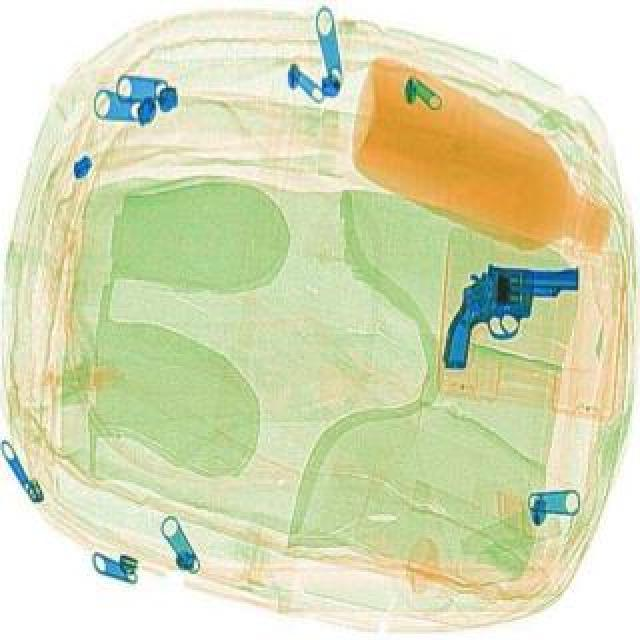gun: (408, 228, 588, 380)
